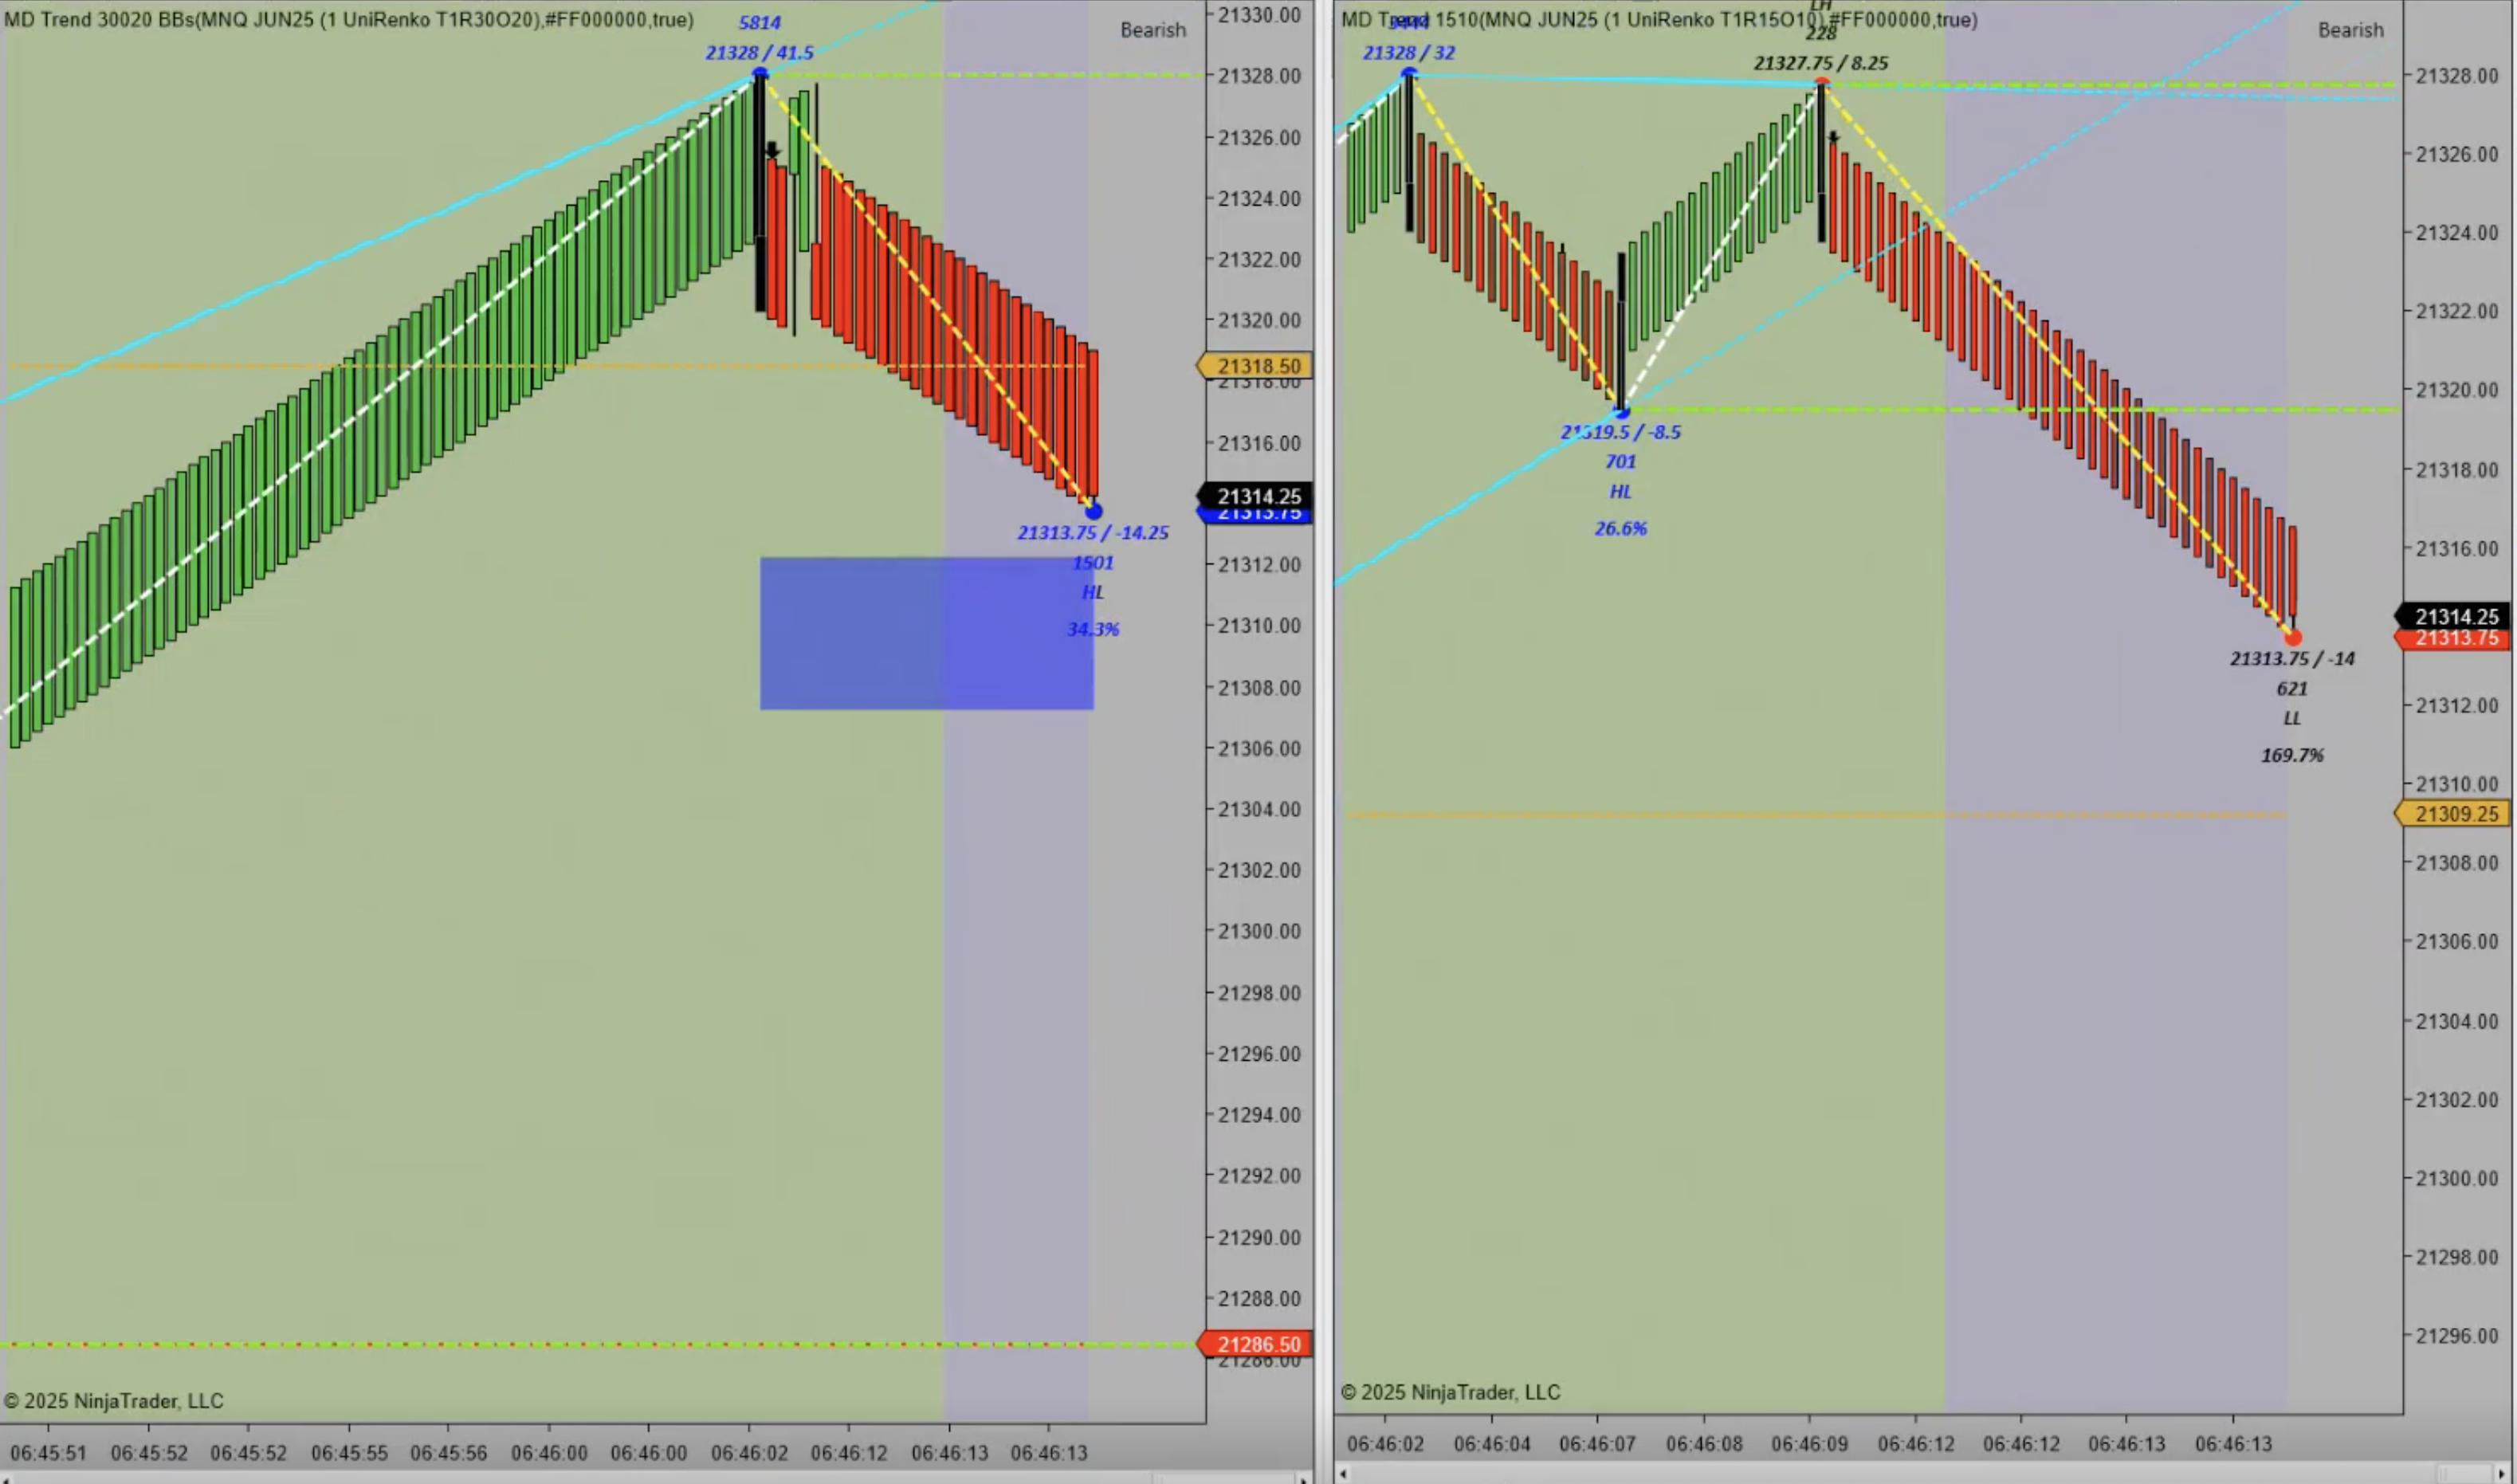candle: (752, 71, 772, 323), (1814, 81, 1833, 254), (1614, 253, 1632, 415), (1402, 69, 1415, 244)
